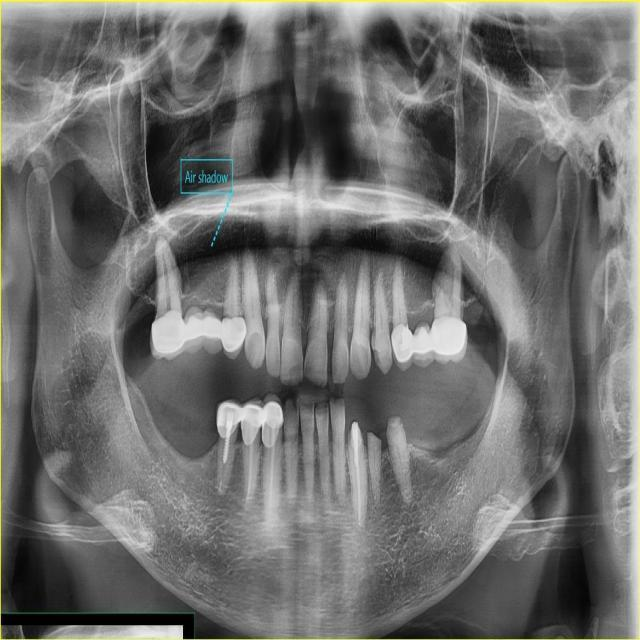71: (221, 411, 234, 465), (351, 422, 359, 468)
74: (245, 424, 255, 507), (268, 429, 276, 517), (355, 464, 362, 522), (219, 479, 223, 492)
Straumann Implant: (346, 426, 355, 447), (358, 426, 363, 446)
Zimmer Implant: (147, 309, 187, 362), (429, 317, 468, 365), (262, 392, 286, 449), (219, 315, 249, 360), (240, 396, 265, 445), (389, 323, 415, 370), (410, 321, 434, 370), (184, 306, 204, 354), (216, 398, 240, 438), (204, 309, 222, 354)
